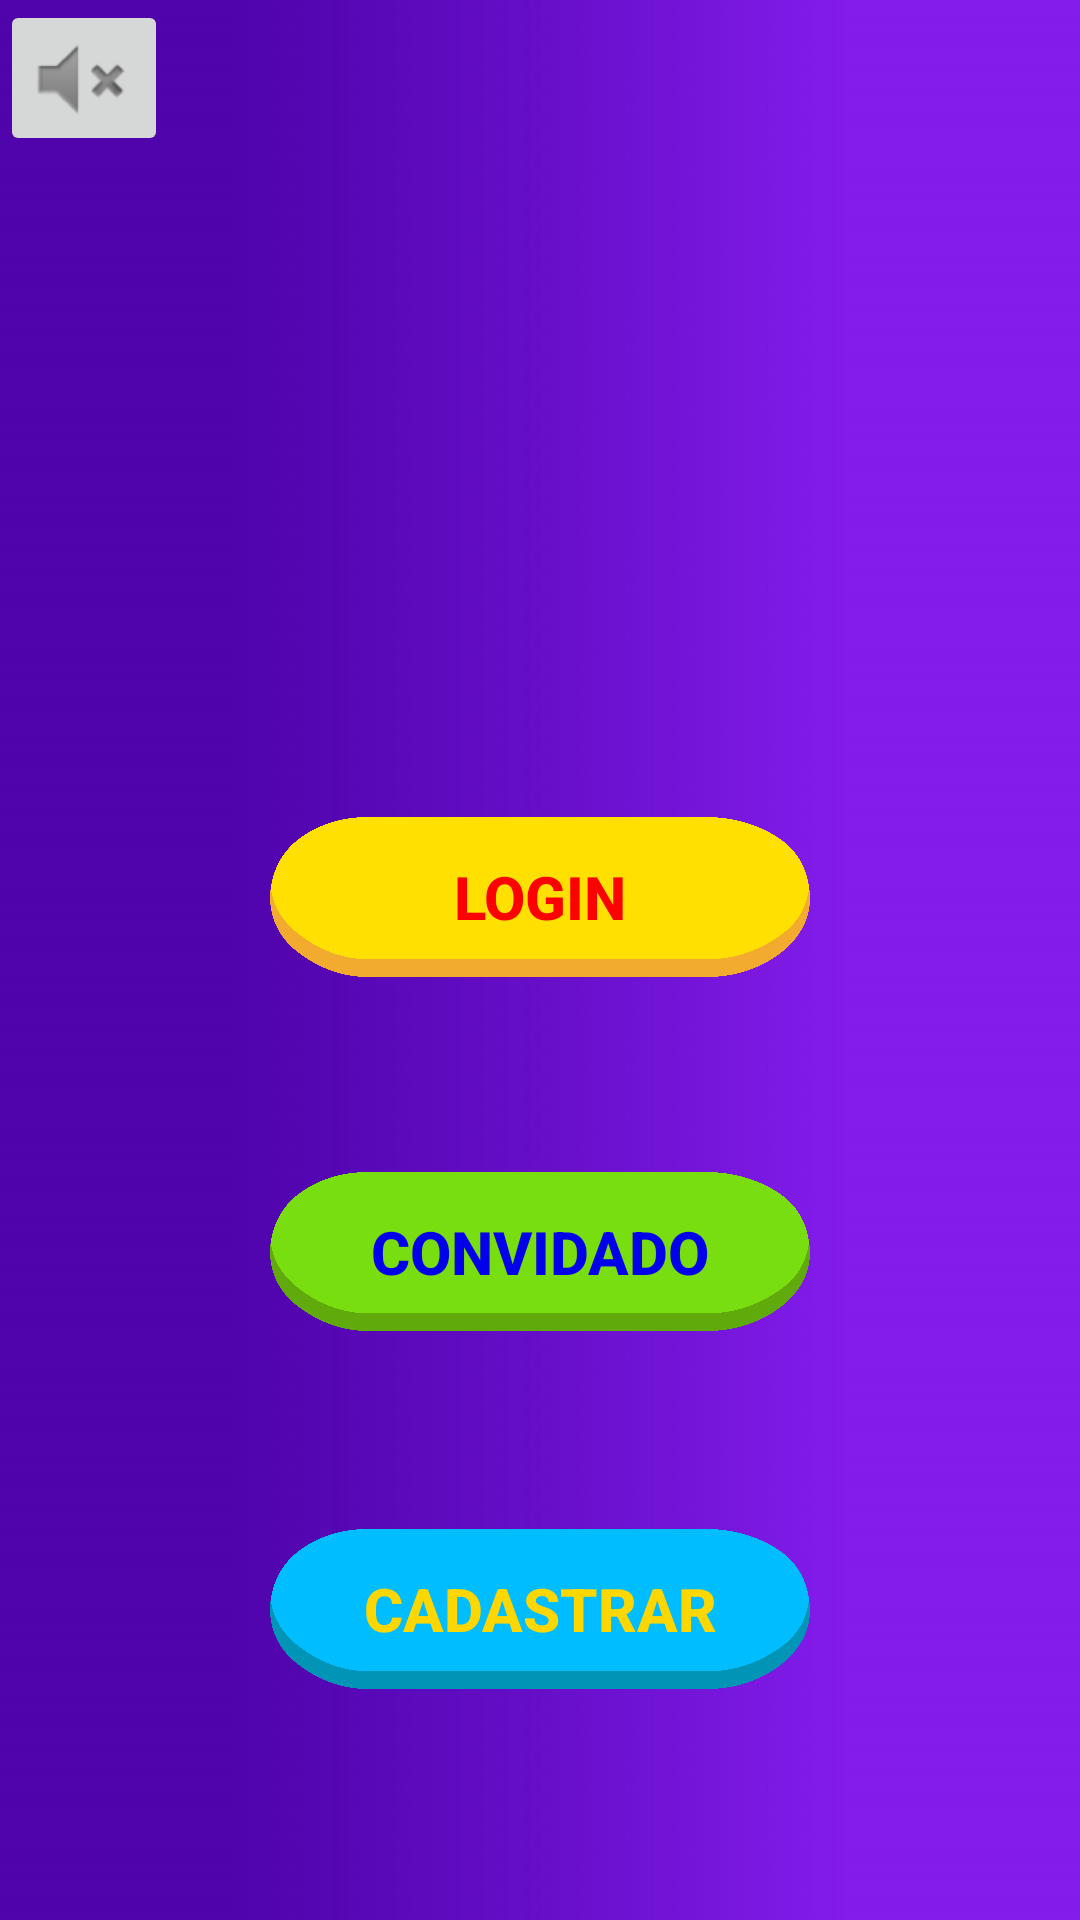

Point at icon controls on the screen. Image size 1080px×1920px, points as [x,y].
lock silent mode: [84,78]
